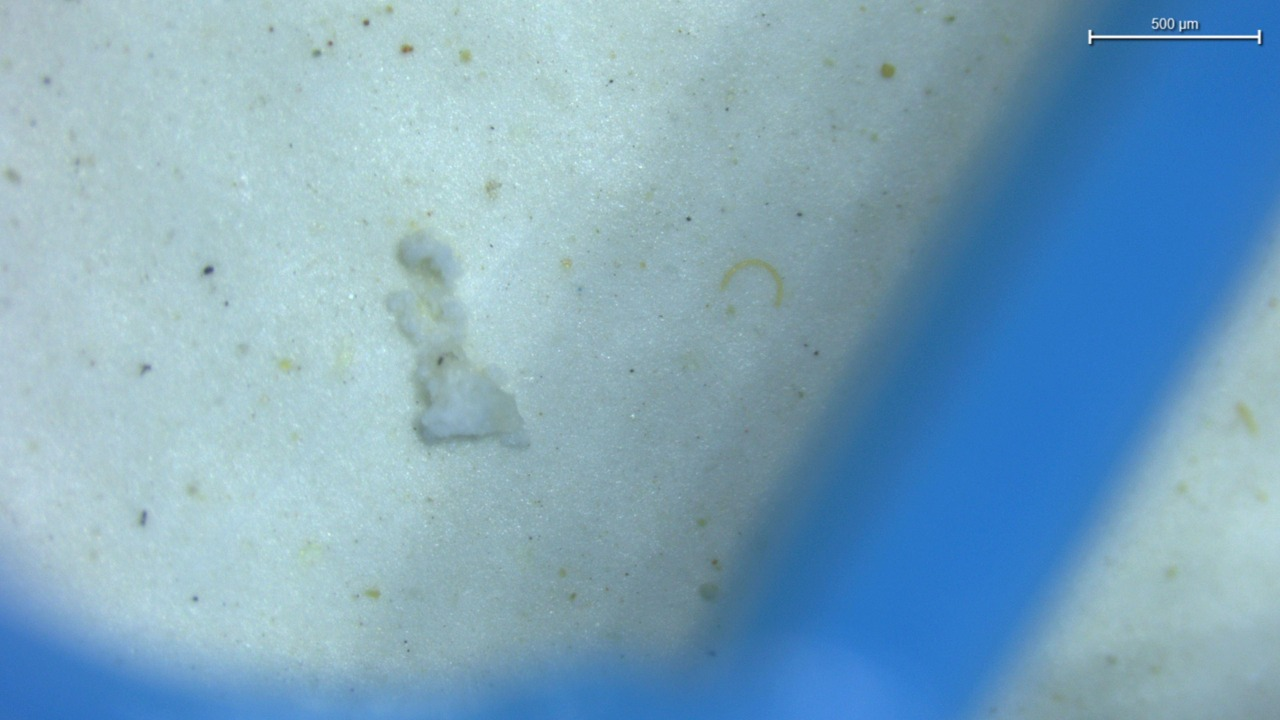microplastic_fragment: (386, 231, 528, 446)
